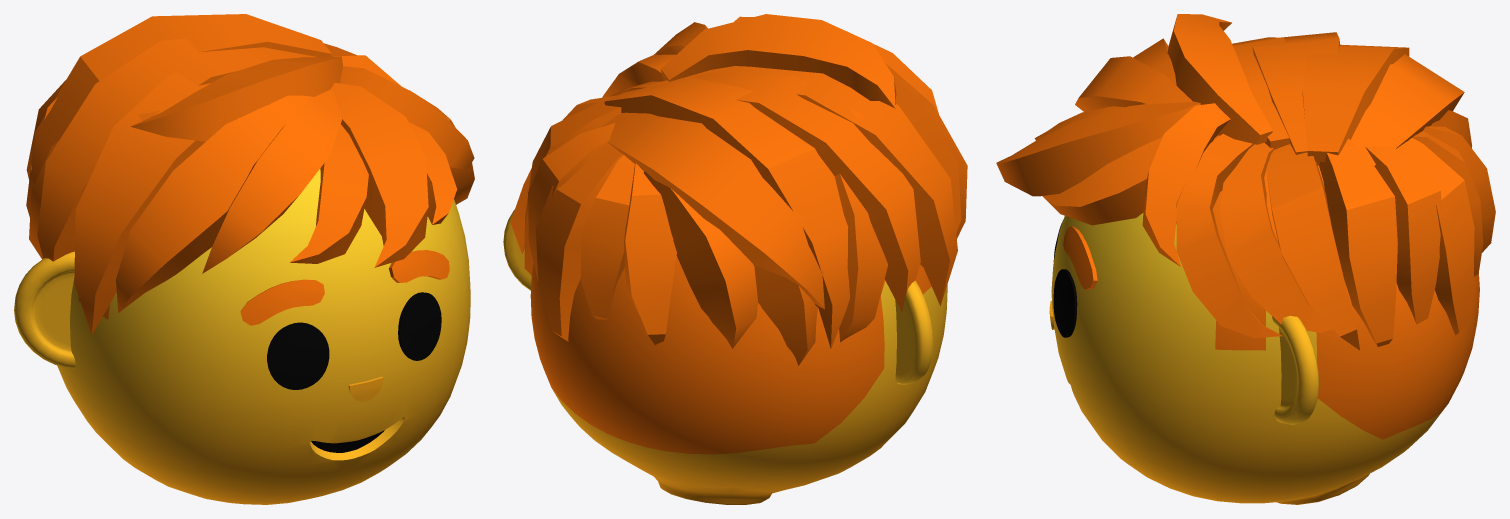
Rendered from person_red_hair.fbx.
3 renders of one model, left to right at view 1: azimuth 30°, elevation 25°; view 2: azimuth 150°, elevation 25°; view 3: azimuth 270°, elevation 25°, orthographic. The views are drawn at different scales.
Parts seen in each view (by area): view 1: Cube.345, Roundcube.018, Circle.336, ears.017, Circle.338, Circle.337; view 2: Cube.345, Roundcube.018, ears.017; view 3: Cube.345, Roundcube.018, ears.017, Circle.336, Circle.338.
Boxes of the visible parts, x1,y1,x2,y2 form: Cube.345: (26,14,474,334); Roundcube.018: (57,168,470,504); Circle.336: (267,292,441,389); ears.017: (14,251,75,368); Circle.338: (240,250,449,325); Circle.337: (348,376,383,401); Cube.345: (510,14,967,365); Roundcube.018: (530,256,947,504); ears.017: (503,209,933,384); Cube.345: (996,14,1495,350); Roundcube.018: (1051,135,1479,504); ears.017: (1272,315,1318,424); Circle.336: (1053,221,1077,337); Circle.338: (1063,226,1097,289).
Size of the model in its own units: 176 by 173 by 177.
2 materials, 2 textured.
